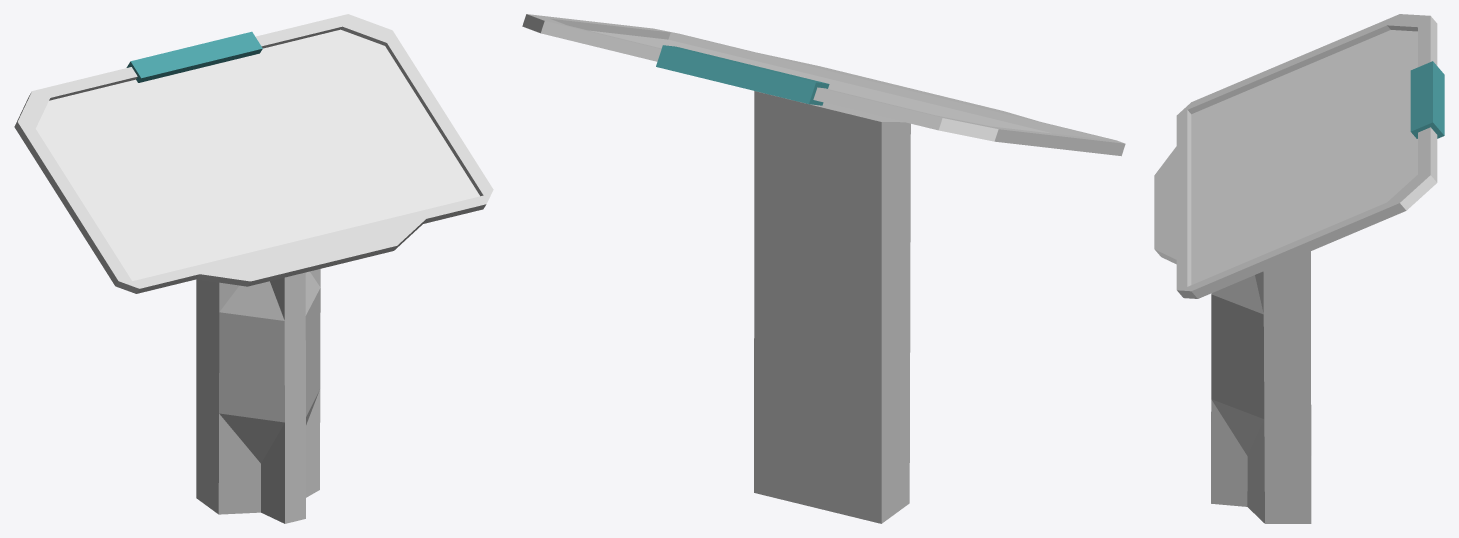
The model's file is console.fbx.
3 renders of one model, left to right at view 1: azimuth 30°, elevation 25°; view 2: azimuth 150°, elevation 25°; view 3: azimuth 270°, elevation 25°, orthographic. The views are drawn at different scales.
Visible parts, largest first — view 1: polySurface2, polySurface1, polySurface3, polySurface4; view 2: polySurface1, polySurface3, polySurface4, polySurface2; view 3: polySurface2, polySurface1, polySurface3, polySurface4.
Boxes of the visible parts, bbox=[...] form: polySurface2: bbox=[35, 29, 479, 280]; polySurface1: bbox=[196, 269, 320, 523]; polySurface3: bbox=[14, 14, 493, 293]; polySurface4: bbox=[126, 31, 262, 82]; polySurface1: bbox=[754, 91, 910, 523]; polySurface3: bbox=[522, 14, 1125, 156]; polySurface4: bbox=[656, 45, 829, 105]; polySurface2: bbox=[590, 30, 1051, 133]; polySurface2: bbox=[1191, 30, 1417, 284]; polySurface1: bbox=[1211, 251, 1311, 523]; polySurface3: bbox=[1154, 14, 1437, 298]; polySurface4: bbox=[1410, 61, 1444, 138].
Bounding box in the file's own units: 250 × 252 × 162.
